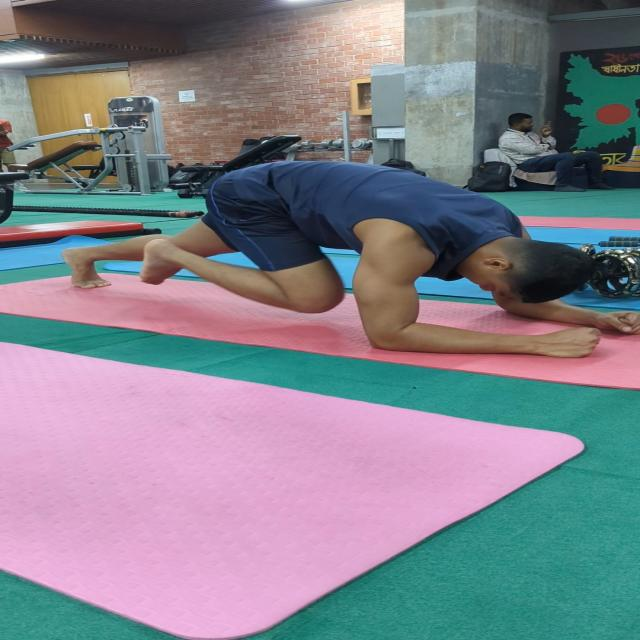Normal_MountainClimbers: (49, 148, 640, 373)
